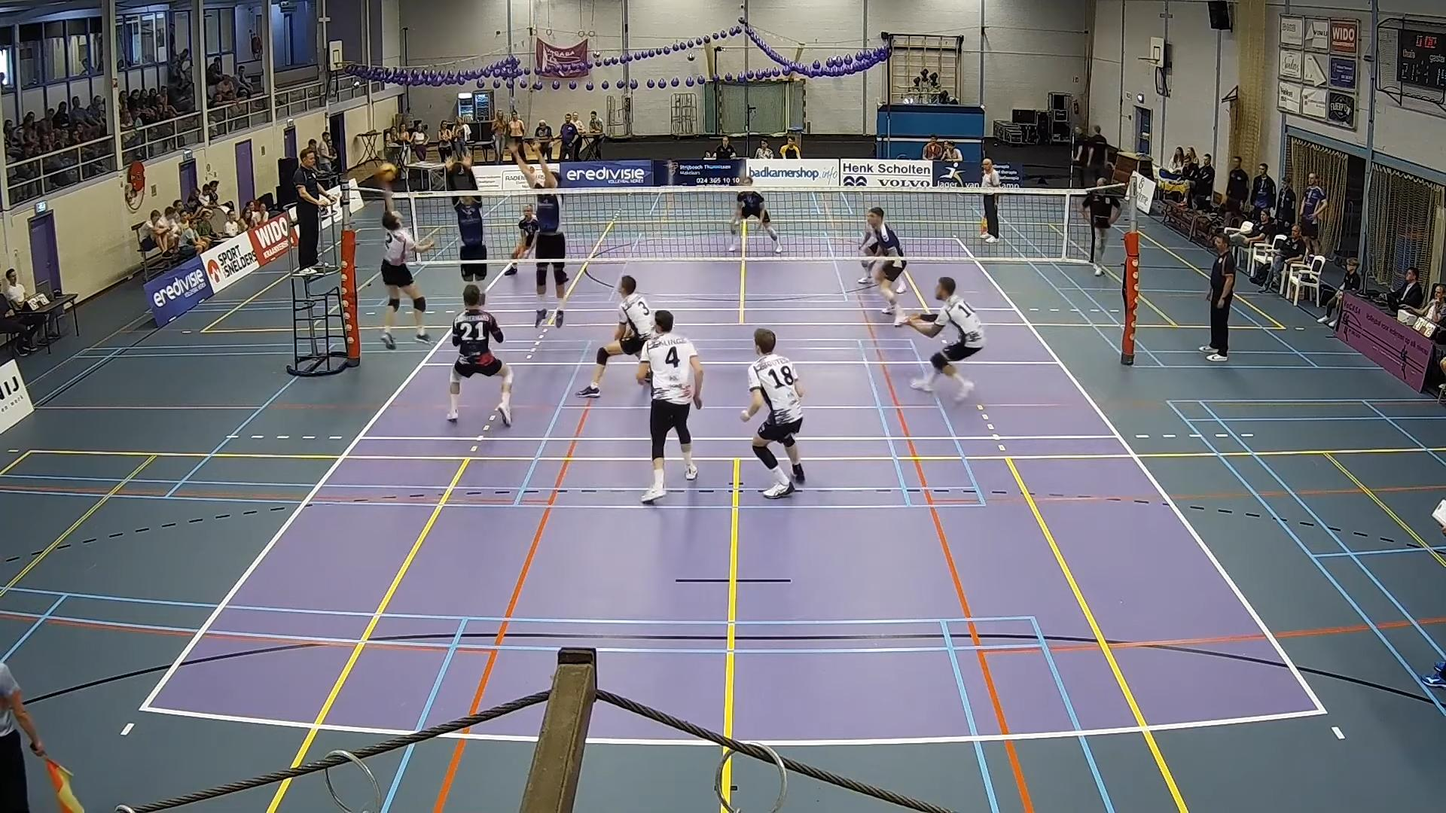attacco: (372, 187, 447, 350)
muro: (511, 136, 573, 328), (443, 149, 492, 311)
